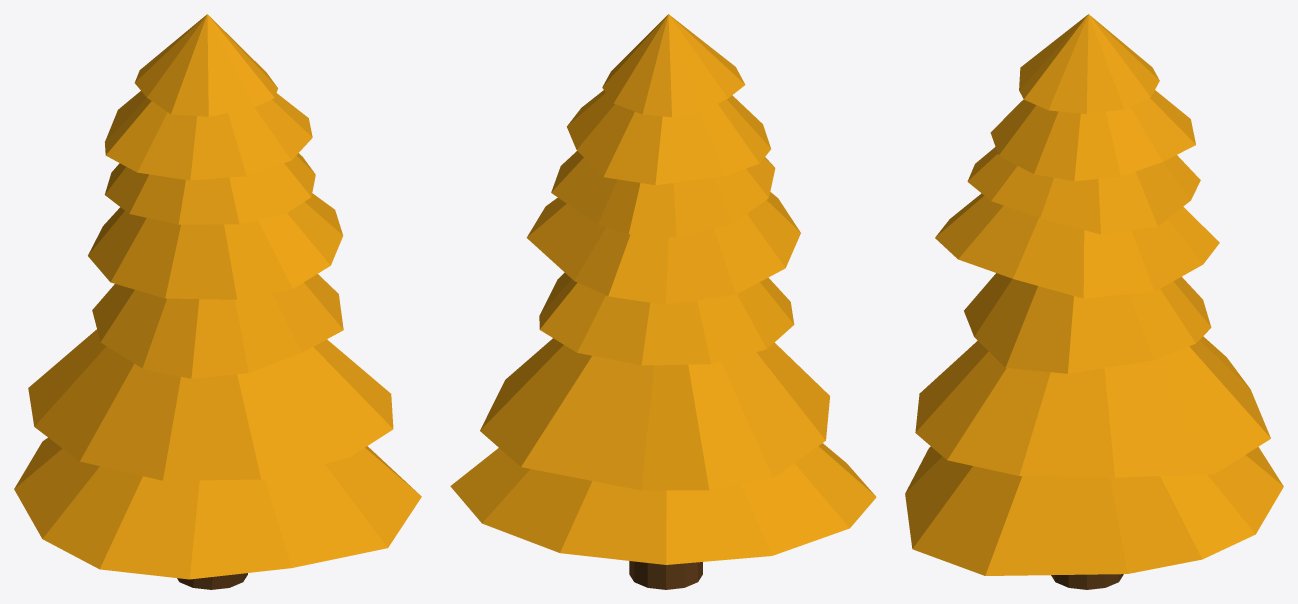
The model's file is Spruce_4.fbx.
3 renders of one model, left to right at view 1: azimuth 30°, elevation 25°; view 2: azimuth 150°, elevation 25°; view 3: azimuth 270°, elevation 25°, orthographic.
Visible parts, largest first — view 1: Leafs, Trunk; view 2: Leafs, Trunk; view 3: Leafs, Trunk.
Boxes of the visible parts, left/top/right/bottom form: Leafs: left=14, top=14, right=421, bottom=579; Trunk: left=177, top=573, right=247, bottom=589; Leafs: left=450, top=14, right=876, bottom=564; Trunk: left=629, top=561, right=702, bottom=589; Leafs: left=905, top=14, right=1283, bottom=575; Trunk: left=1051, top=574, right=1123, bottom=589.
Bounding box in the file's own units: 13.74 × 21.46 × 13.18.
